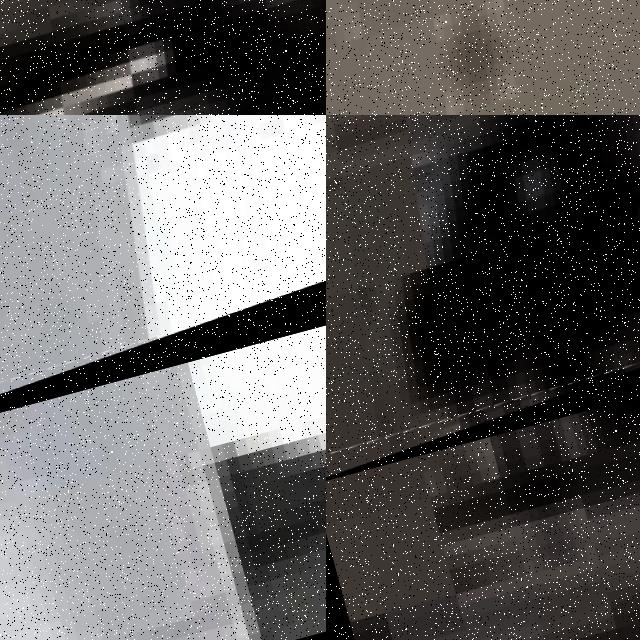0: (326, 115, 640, 484), (0, 0, 326, 115), (326, 0, 640, 115)
drone: (0, 115, 326, 466)
